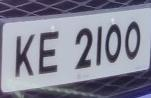0: (103, 17, 124, 70), (123, 16, 142, 66)
1: (93, 19, 105, 72)
2: (71, 22, 96, 75)
F: (35, 26, 63, 81)
K: (12, 29, 38, 83)
